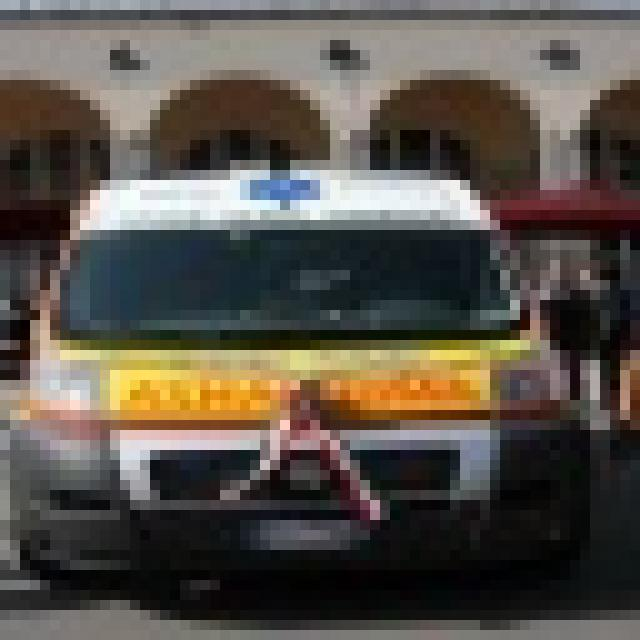Ambulance: (0, 160, 590, 590)
